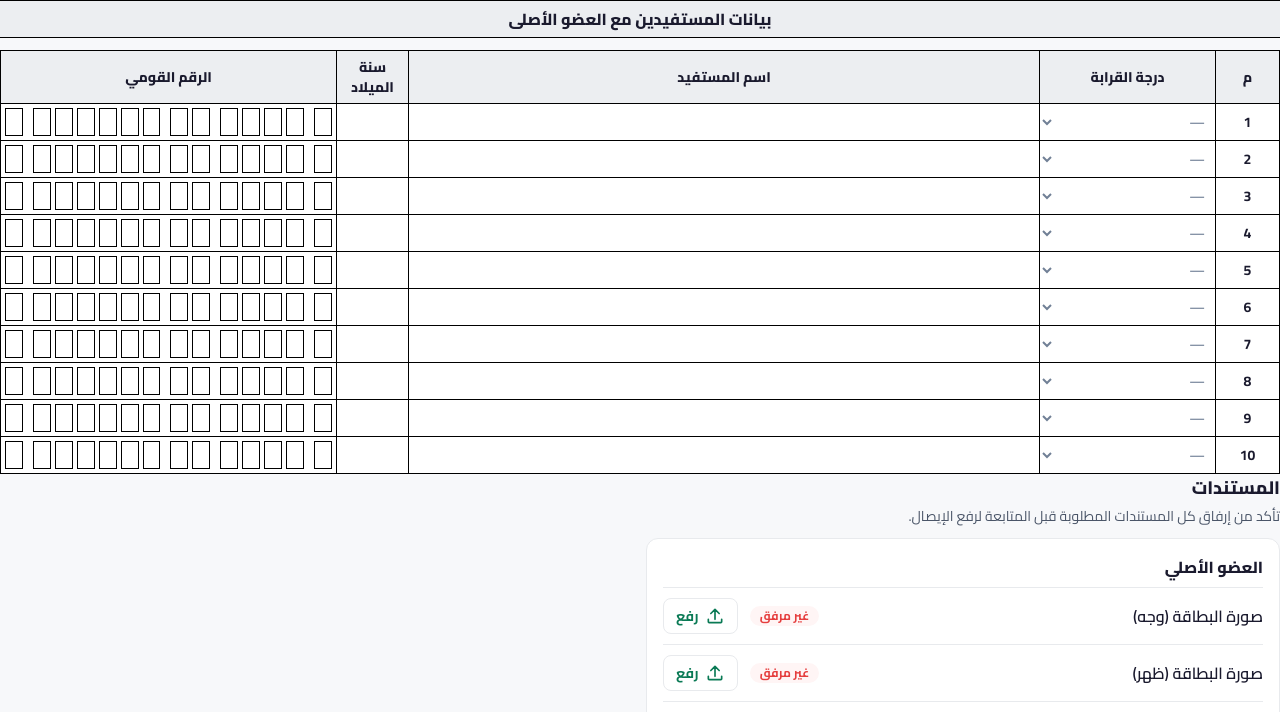
Test: member requirements follow beneficiary saves (MOTHER → member birth certificate) › shows the certificate as soon as an active mother is saved: checklist and her dialog
Expected: the text "شهادة ميلاد العضو الأصلي لإثبات صلة القرابة بالأم" is not shown
Step 1. Select "أم" in the dropdown named "درجة القرابة — المستفيد رقم 1" → (1128, 122), box left=1040, top=104, right=1215, bottom=140
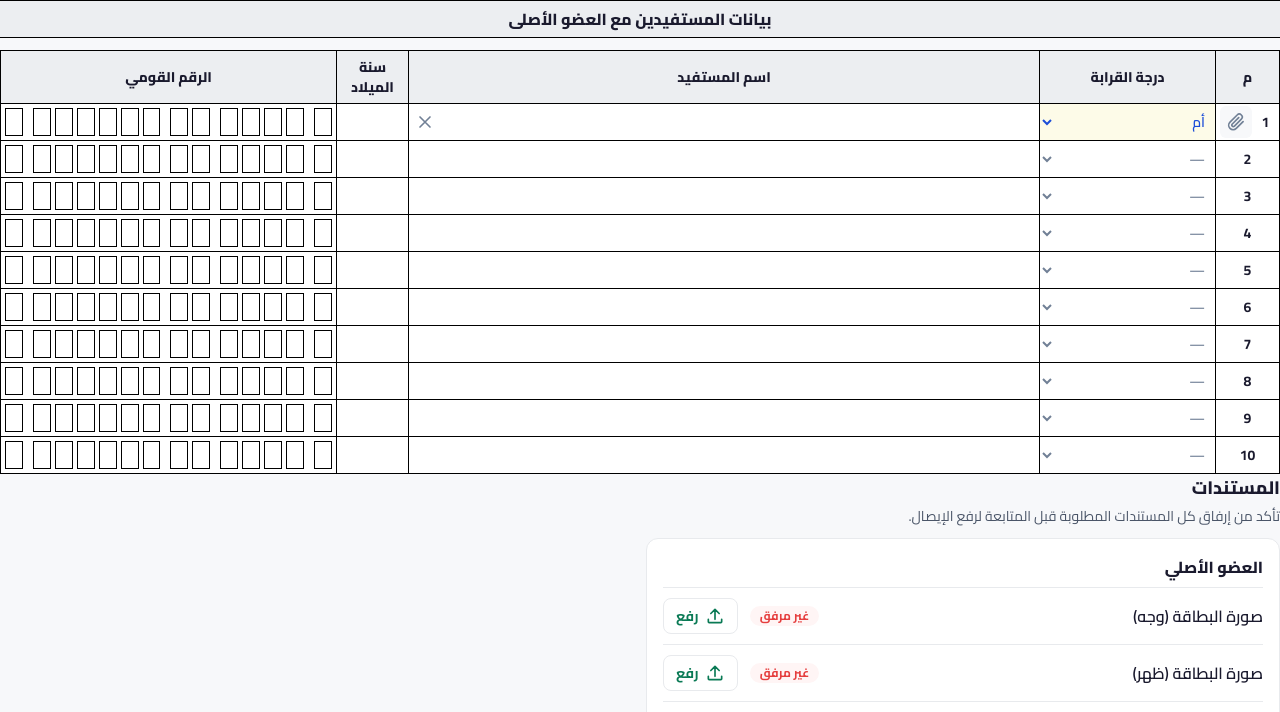
Step 2. Type "فاطمة علي أحمد" into the field named "اسم المستفيد — المستفيد رقم 1" → (740, 122), box left=441, top=108, right=1039, bottom=136
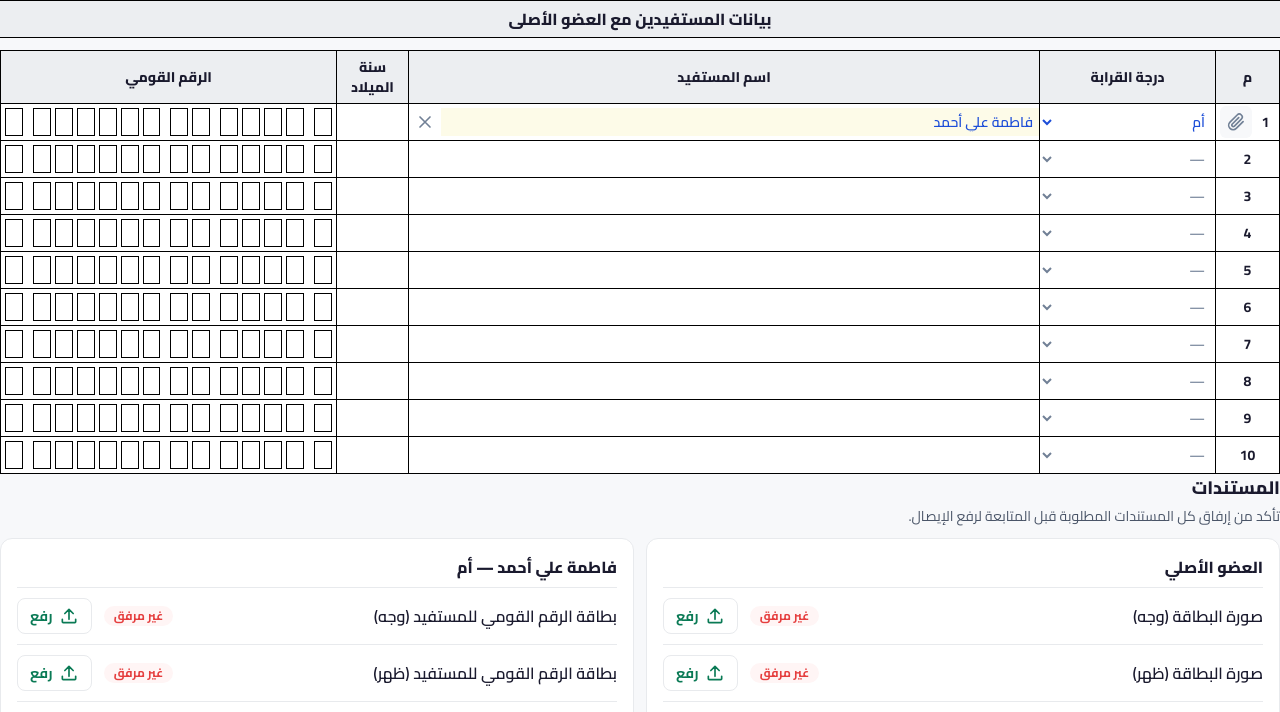
Step 3. Click the button named "مستندات المستفيد رقم 1" → (1236, 122), box left=1220, top=106, right=1252, bottom=138
(page scrolled)
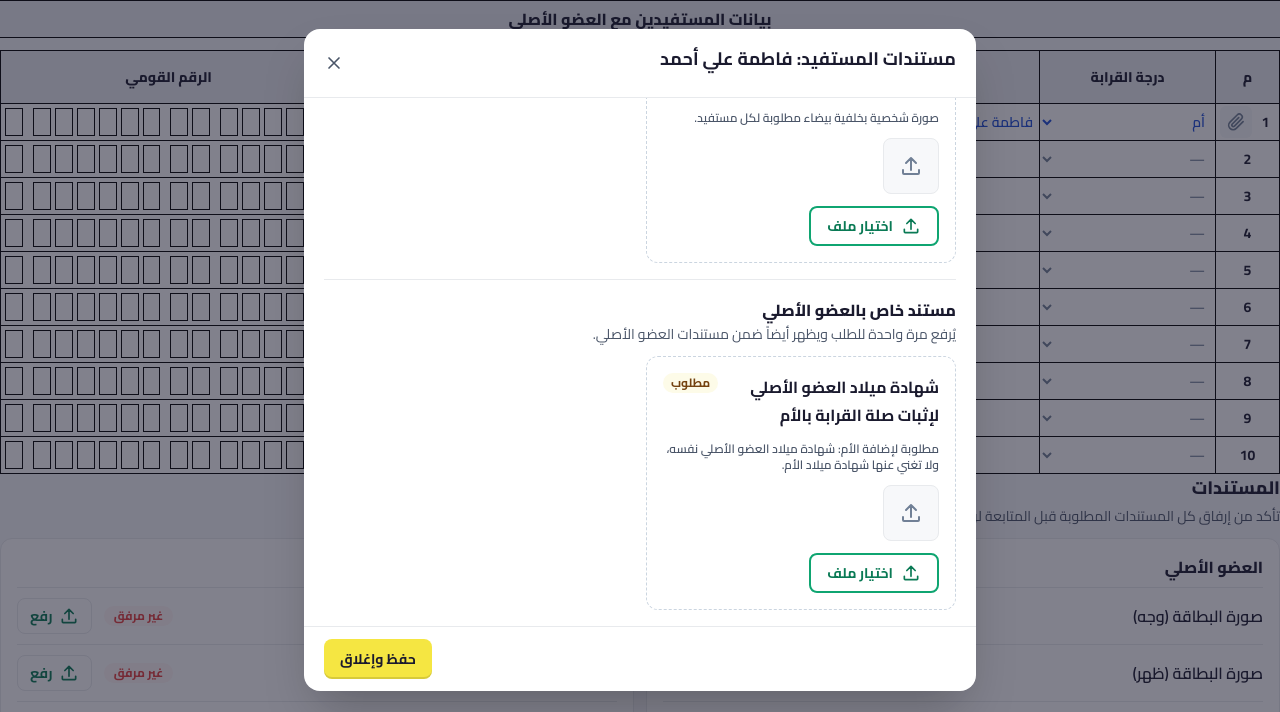
Expected: the text "شهادة ميلاد العضو الأصلي لإثبات صلة القرابة بالأم" is shown, left=750, top=372, right=939, bottom=430
